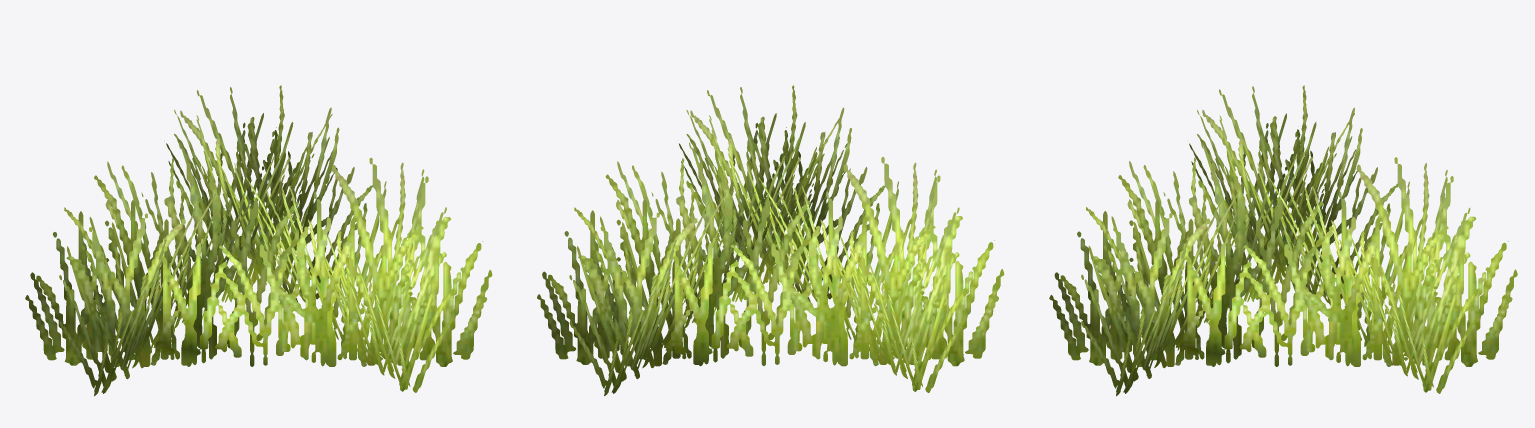
The model's file is grass_soft_large_tall.glb.
3 renders of one model, left to right at view 1: azimuth 30°, elevation 25°; view 2: azimuth 150°, elevation 25°; view 3: azimuth 270°, elevation 25°, orthographic.
Visible parts, largest first — view 1: grass_soft_large_tall; view 2: grass_soft_large_tall; view 3: grass_soft_large_tall.
Part boxes in pixels (<box>): grass_soft_large_tall: <box>25,85,492,396</box>; grass_soft_large_tall: <box>537,85,1004,395</box>; grass_soft_large_tall: <box>1049,85,1517,396</box>.
Bounding box in the file's own units: 3.46 × 1.61 × 3.41.
1 material, 1 textured.
